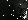person: (17, 5, 27, 19)
